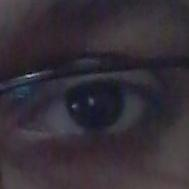open: (0, 62, 170, 160)
